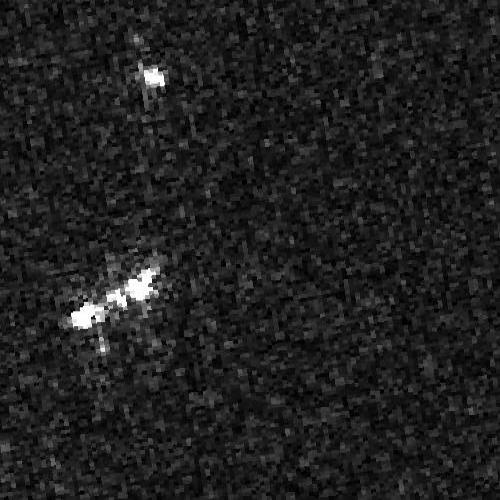ship: (70, 265, 161, 330), (142, 67, 166, 88)
